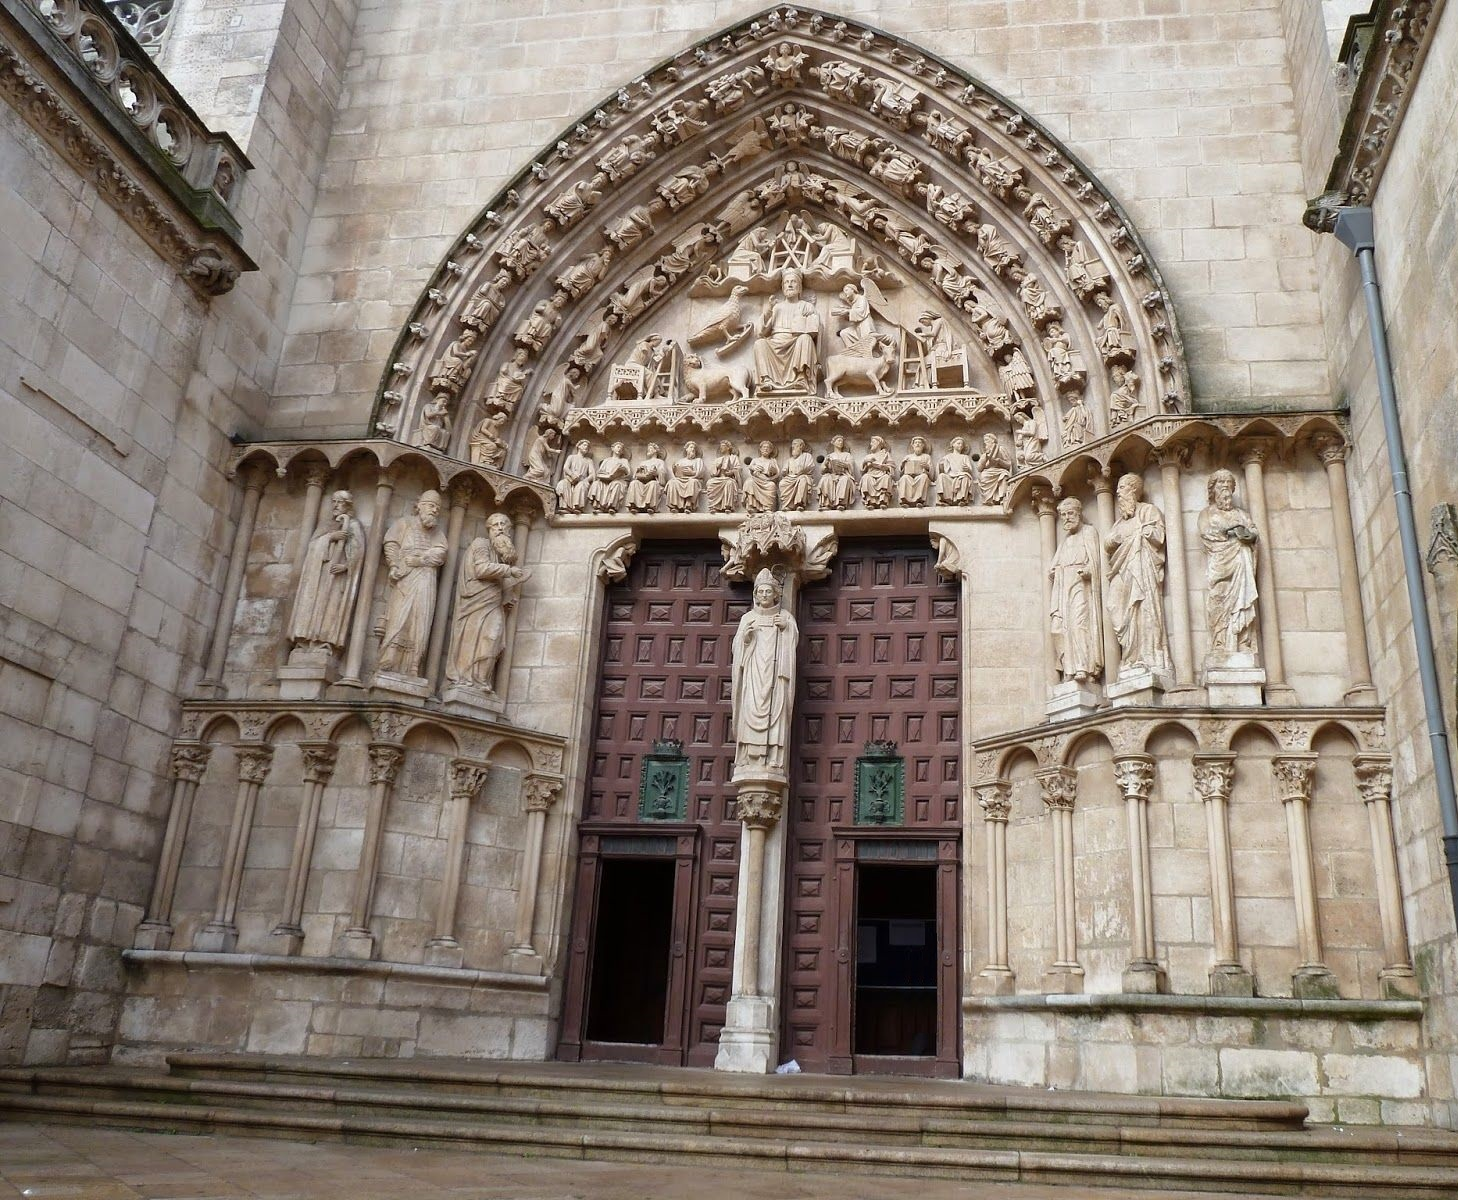arco-apuntado: (367, 1, 1195, 413)
